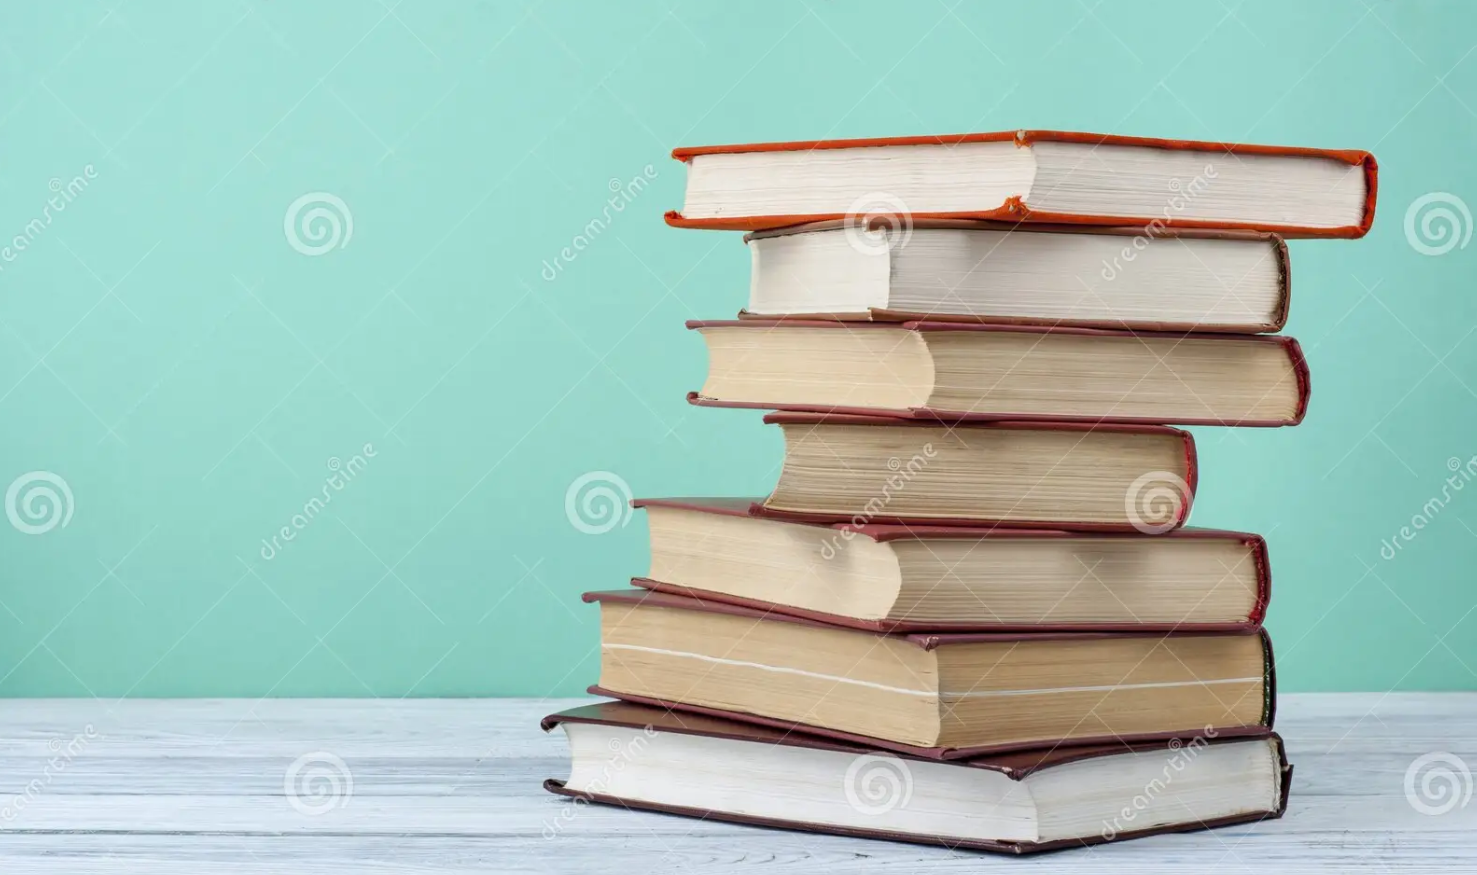book: (577, 589, 1293, 757), (528, 710, 1295, 860), (625, 490, 1275, 636), (649, 131, 1374, 242), (670, 316, 1318, 432), (720, 216, 1283, 332), (754, 417, 1211, 529)
